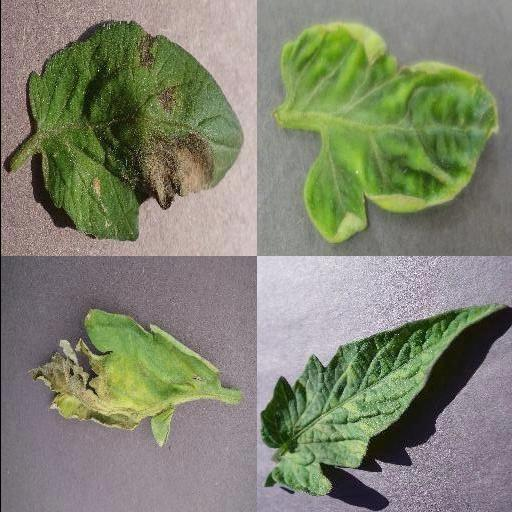Late Blight: (25, 22, 245, 242), (27, 307, 223, 447)
Leaf Mold: (258, 303, 504, 497)
Yellow Leaf Curl Virus: (280, 21, 500, 245)
